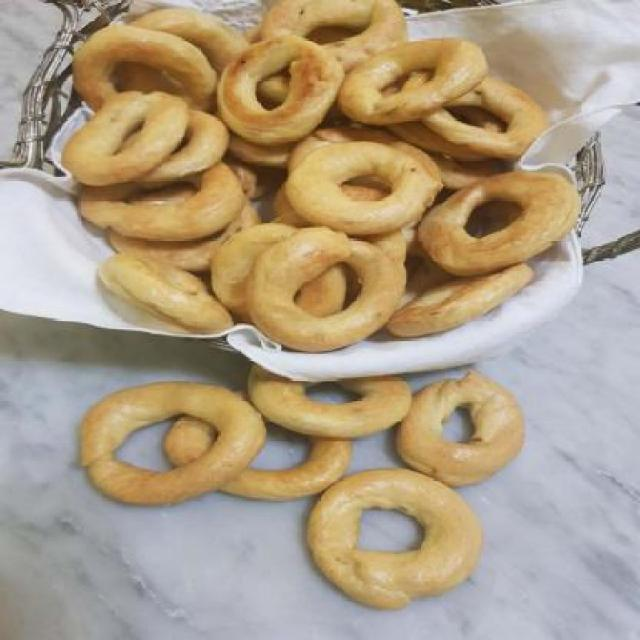Taralli: (63, 1, 582, 344), (77, 374, 266, 511), (307, 470, 490, 604), (397, 366, 528, 492)
